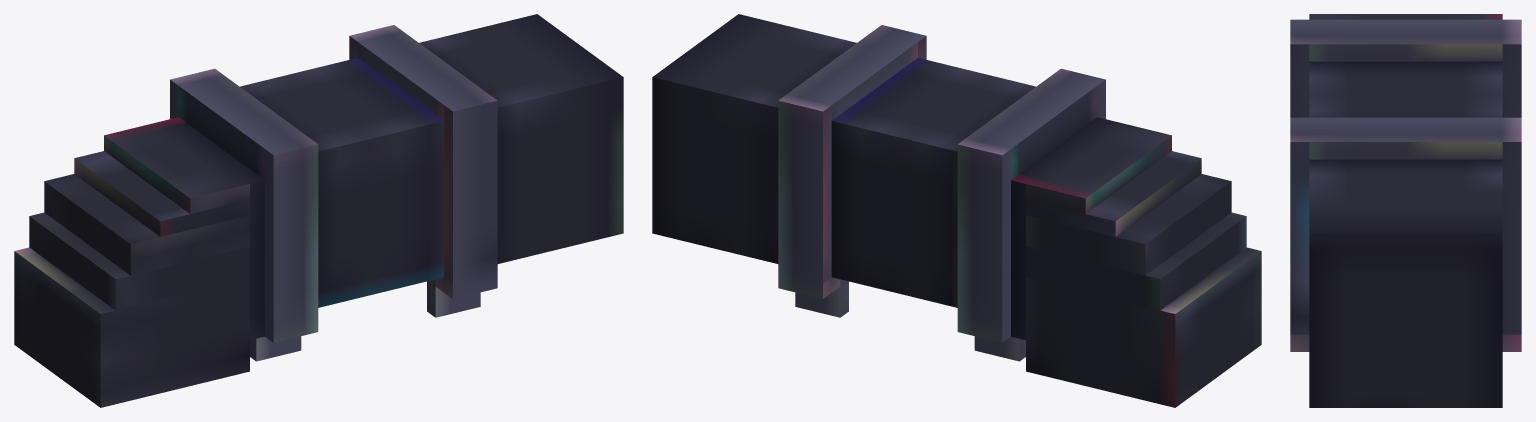
The model's file is Vent_F_00.fbx.
3 views of the same model, side by side, from view 1: azimuth 30°, elevation 25°; view 2: azimuth 150°, elevation 25°; view 3: azimuth 270°, elevation 25° (orthographic). The views are drawn at different scales.
Visible parts, largest first — view 1: Vent_F_00; view 2: Vent_F_00; view 3: Vent_F_00.
Part boxes in pixels (left/top/right/bottom): Vent_F_00: left=14, top=14, right=623, bottom=407; Vent_F_00: left=652, top=14, right=1261, bottom=407; Vent_F_00: left=1290, top=14, right=1521, bottom=407.
Bounding box in the file's own units: 175 × 70 × 60.
